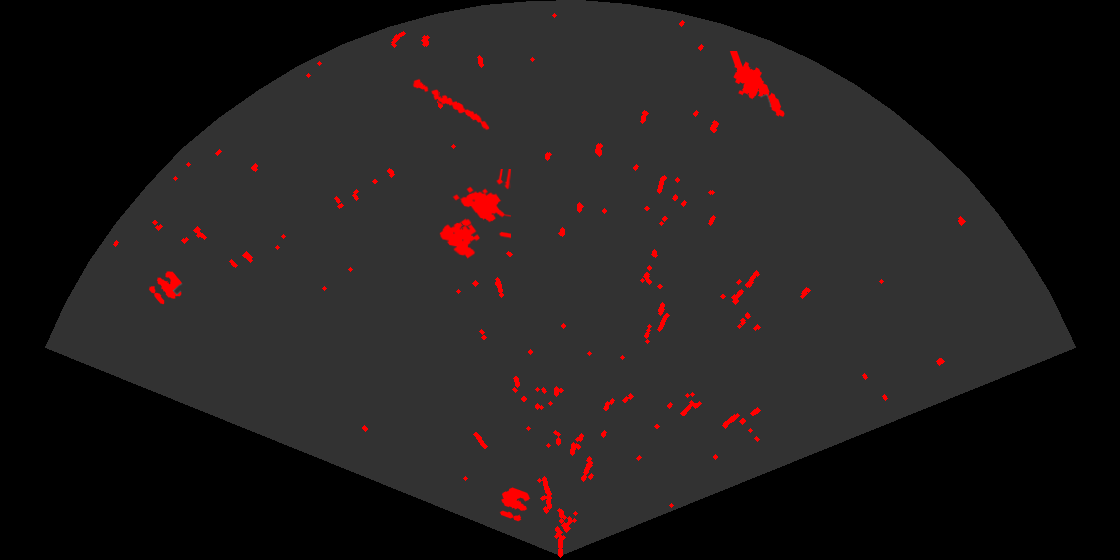ball: (147, 270, 183, 306), (498, 486, 532, 523)
cage: (438, 169, 511, 260)
chain: (411, 77, 491, 132)
frogman: (728, 51, 786, 119)
